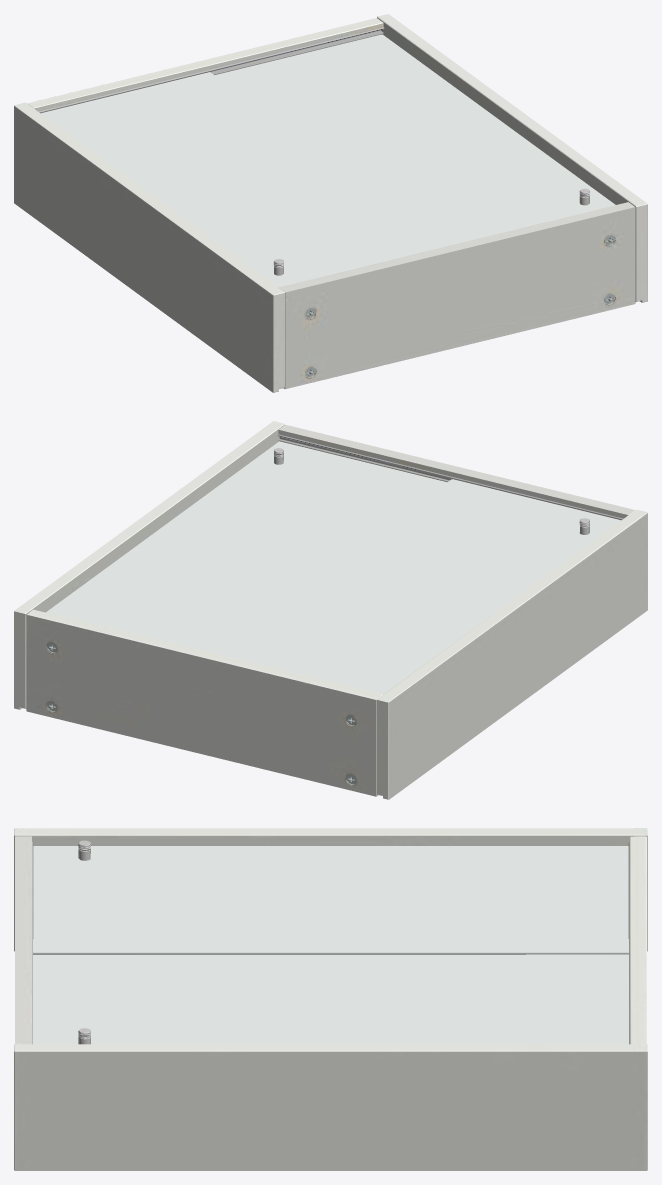
The model's file is 01 - NYSJÖN Mirror cabinet - white 50x60 cm.glb.
3 renders of one model, top to bottom at view 1: azimuth 30°, elevation 25°; view 2: azimuth 150°, elevation 25°; view 3: azimuth 270°, elevation 25°, orthographic. The views are drawn at different scales.
Visible parts, largest first — view 1: 1, 2; view 2: 1, 2; view 3: 2, 1.
Boxes of the visible parts, x1=… form: 1: x1=14, y1=14, x2=647, y2=392; 2: x1=41, y1=34, x2=615, y2=287; 1: x1=14, y1=421, x2=647, y2=799; 2: x1=46, y1=441, x2=620, y2=694; 2: x1=33, y1=846, x2=628, y2=1044; 1: x1=14, y1=828, x2=647, y2=1170.
Size of the model in its own units: 0.5 by 0.1307 by 0.6.
Materials: 2 (2 with a texture image).
